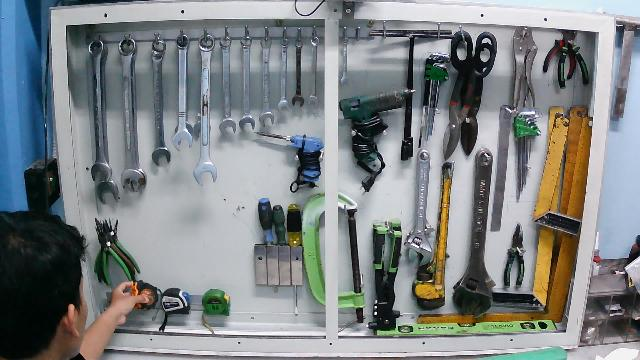meteran: (127, 278, 162, 322)
